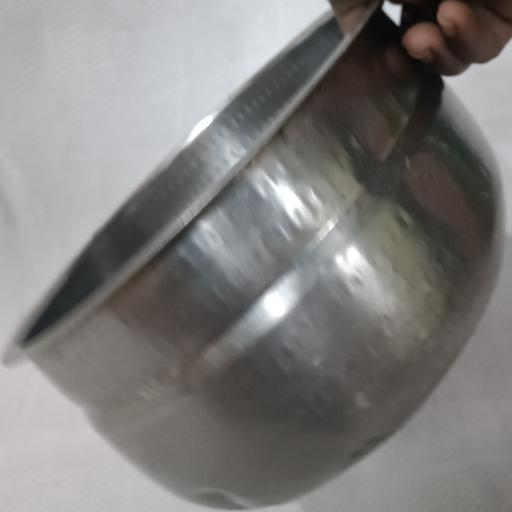vessel: (8, 4, 503, 508)
